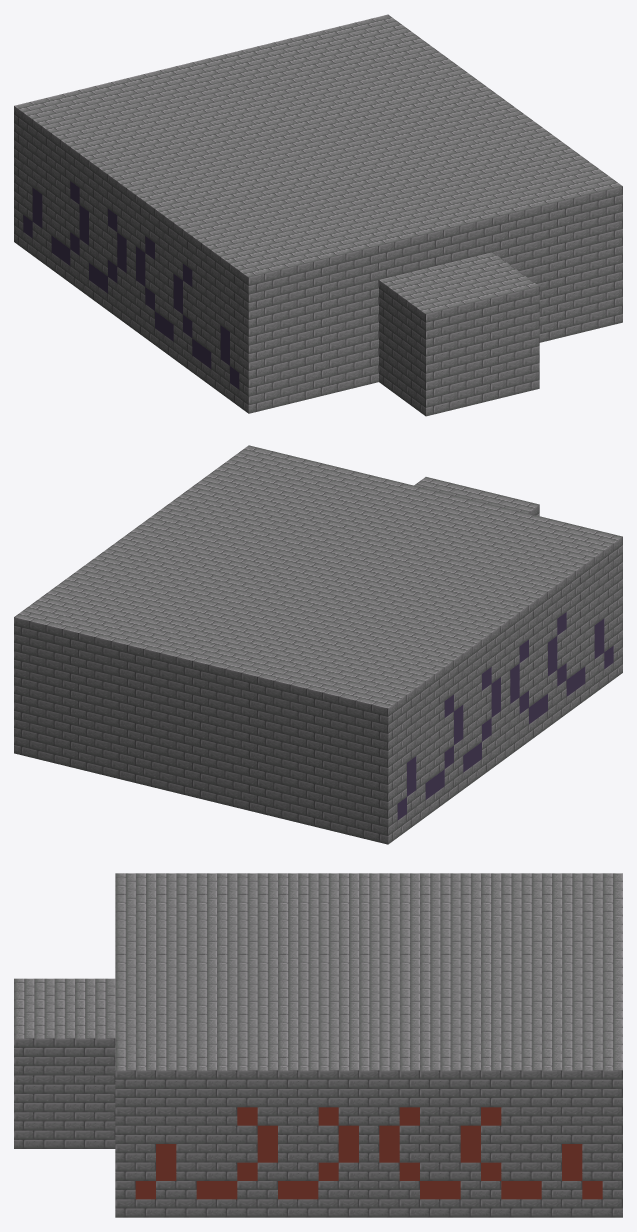
The model's file is minecraft.obj.
The picture shows the model from 3 angles, top to bottom: view 1: azimuth 30°, elevation 25°; view 2: azimuth 150°, elevation 25°; view 3: azimuth 270°, elevation 25°; orthographic projection. The views are drawn at different scales.
Size of the model in its own units: 23 by 8 by 30.
